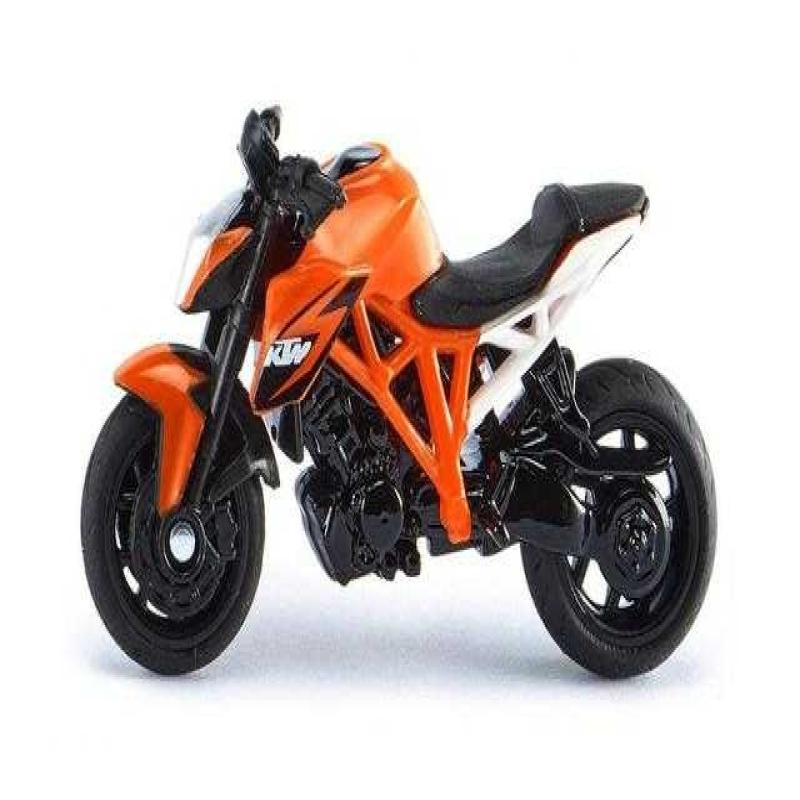bike: (81, 46, 734, 698)
